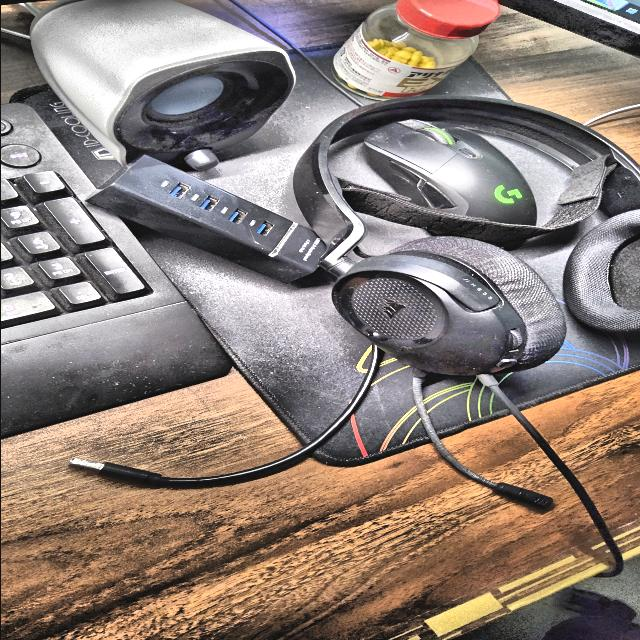HUB: (69, 347, 378, 488), (88, 155, 324, 282)
Keyboard: (0, 103, 231, 438)
MOUSE: (363, 119, 536, 225)
